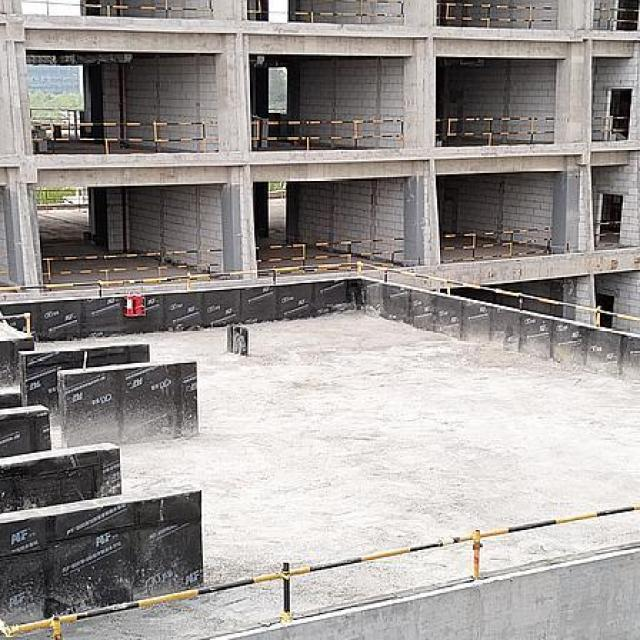edge_guardrail: (0, 497, 640, 640), (0, 257, 640, 329), (42, 247, 225, 283), (31, 122, 219, 154), (251, 115, 404, 152), (255, 236, 405, 266), (9, 0, 214, 21), (439, 226, 552, 263), (435, 114, 555, 147), (436, 2, 558, 29), (287, 0, 406, 27), (29, 107, 78, 137), (593, 7, 638, 32), (591, 116, 630, 141), (0, 310, 31, 336), (593, 220, 621, 247), (35, 188, 76, 203), (246, 0, 269, 21)
